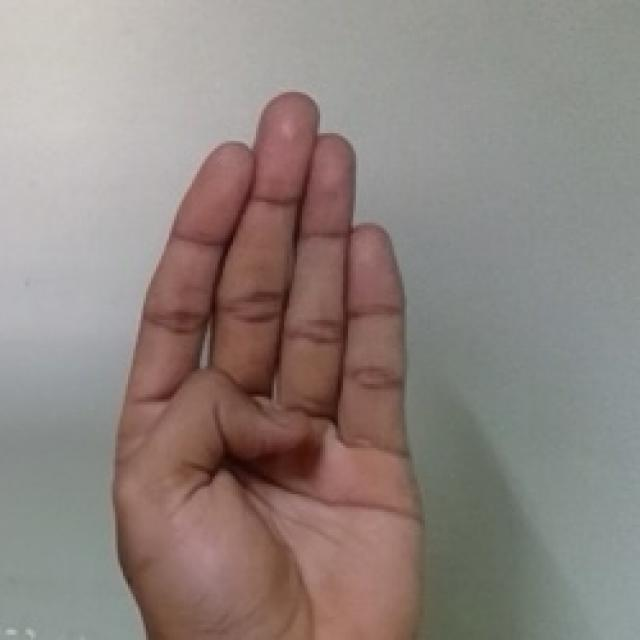Numeric-4: (124, 86, 423, 624)
